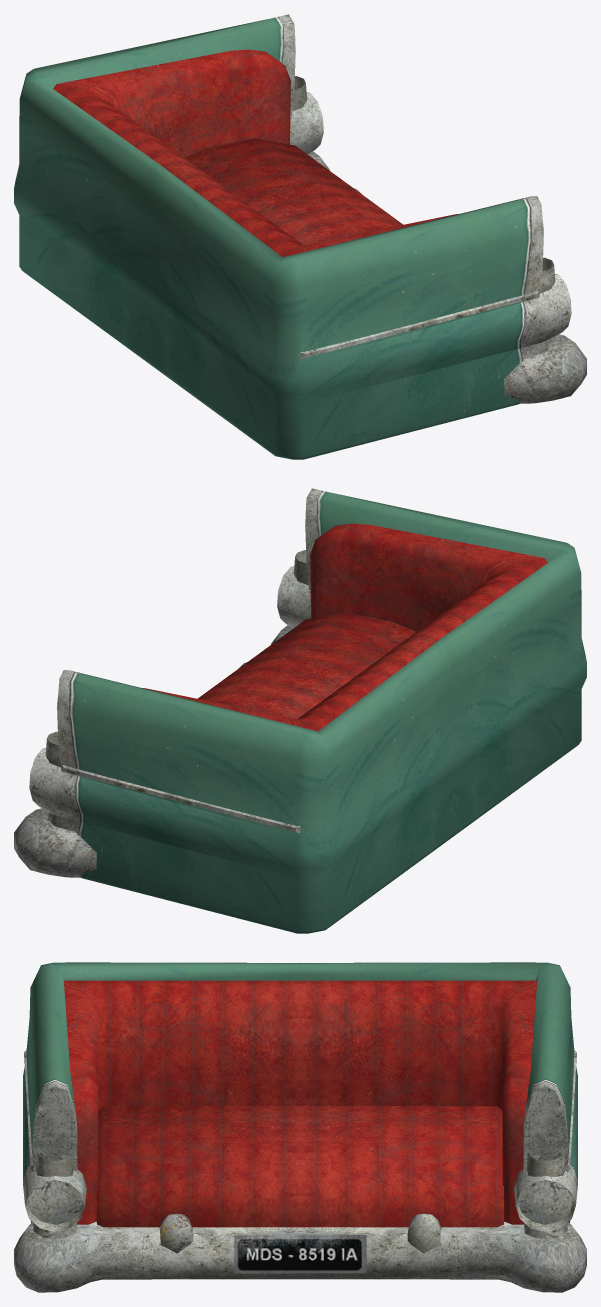
Rendered from M_Home_Garden_couch_02_.fbx.
3 views of the same model, one above another, from view 1: azimuth 30°, elevation 25°; view 2: azimuth 150°, elevation 25°; view 3: azimuth 270°, elevation 25° (orthographic).
Visible parts, largest first — view 1: M_Home_Garden_couch_02_; view 2: M_Home_Garden_couch_02_; view 3: M_Home_Garden_couch_02_.
Boxes of the visible parts, x1,y1,x2,y2 form: M_Home_Garden_couch_02_: (14, 14, 586, 459); M_Home_Garden_couch_02_: (14, 488, 586, 933); M_Home_Garden_couch_02_: (14, 962, 586, 1292).
Size of the model in its own units: 126 by 75.76 by 204.
